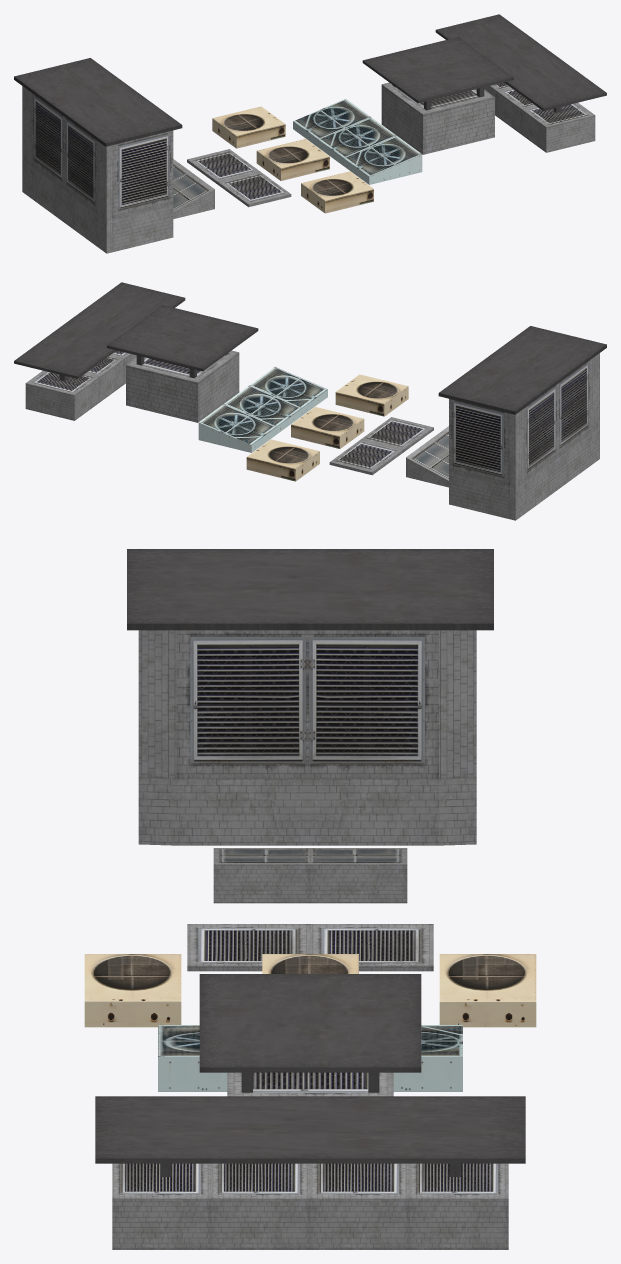
Rendered from SM_RoofelEments.FBX.
The picture shows the model from 3 angles, top to bottom: view 1: azimuth 30°, elevation 25°; view 2: azimuth 150°, elevation 25°; view 3: azimuth 270°, elevation 25°; orthographic projection. The views are drawn at different scales.
Parts seen in each view (by area): view 1: Del_RoofelEment_v07_, Del_RoofelEment_v02_, Del_RoofelEment_v01_, Del_RoofelEment_v04_, Del_RoofelEment_v03_, Del_RoofelEment_v05_, Del_RoofelEment_v06_; view 2: Del_RoofelEment_v07_, Del_RoofelEment_v02_, Del_RoofelEment_v01_, Del_RoofelEment_v04_, Del_RoofelEment_v03_, Del_RoofelEment_v05_, Del_RoofelEment_v06_; view 3: Del_RoofelEment_v07_, Del_RoofelEment_v01_, Del_RoofelEment_v02_, Del_RoofelEment_v04_, Del_RoofelEment_v06_, Del_RoofelEment_v05_, Del_RoofelEment_v03_.
Part boxes in pixels (left/top/right/bottom): Del_RoofelEment_v07_: left=14, top=58, right=182, bottom=253; Del_RoofelEment_v02_: left=362, top=37, right=513, bottom=154; Del_RoofelEment_v01_: left=435, top=14, right=606, bottom=152; Del_RoofelEment_v04_: left=212, top=106, right=373, bottom=213; Del_RoofelEment_v03_: left=293, top=99, right=422, bottom=184; Del_RoofelEment_v05_: left=187, top=149, right=291, bottom=207; Del_RoofelEment_v06_: left=173, top=159, right=214, bottom=218; Del_RoofelEment_v07_: left=438, top=326, right=606, bottom=520; Del_RoofelEment_v02_: left=107, top=305, right=258, bottom=422; Del_RoofelEment_v01_: left=14, top=282, right=185, bottom=420; Del_RoofelEment_v04_: left=246, top=374, right=408, bottom=481; Del_RoofelEment_v03_: left=198, top=367, right=327, bottom=452; Del_RoofelEment_v05_: left=329, top=417, right=433, bottom=475; Del_RoofelEment_v06_: left=406, top=426, right=448, bottom=487; Del_RoofelEment_v07_: left=127, top=549, right=493, bottom=845; Del_RoofelEment_v01_: left=95, top=1096, right=525, bottom=1249; Del_RoofelEment_v02_: left=199, top=974, right=421, bottom=1096; Del_RoofelEment_v04_: left=84, top=954, right=536, bottom=1027; Del_RoofelEment_v06_: left=213, top=848, right=407, bottom=903; Del_RoofelEment_v05_: left=187, top=924, right=433, bottom=971; Del_RoofelEment_v03_: left=158, top=1025, right=462, bottom=1091.
Size of the model in its own units: 13.37 by 2.93 by 5.3.
Materials: 1 (1 with a texture image).
